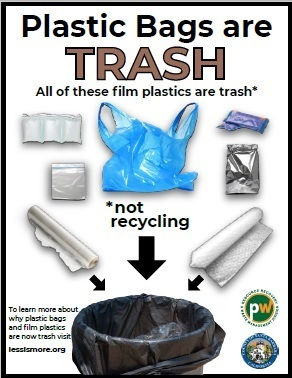plastic_bagwdw: (93, 92, 206, 217), (61, 299, 217, 378)
